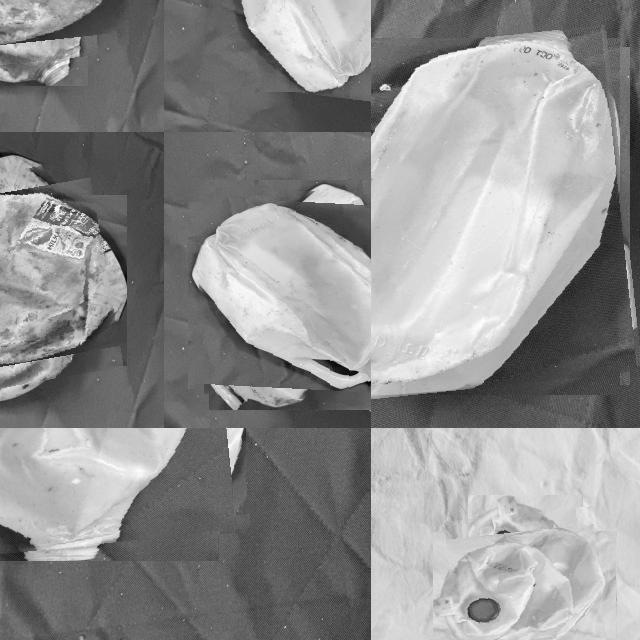milk-jug: (371, 33, 633, 398), (196, 188, 371, 401), (0, 428, 241, 556), (0, 167, 115, 395), (447, 509, 603, 640), (205, 0, 371, 97)
